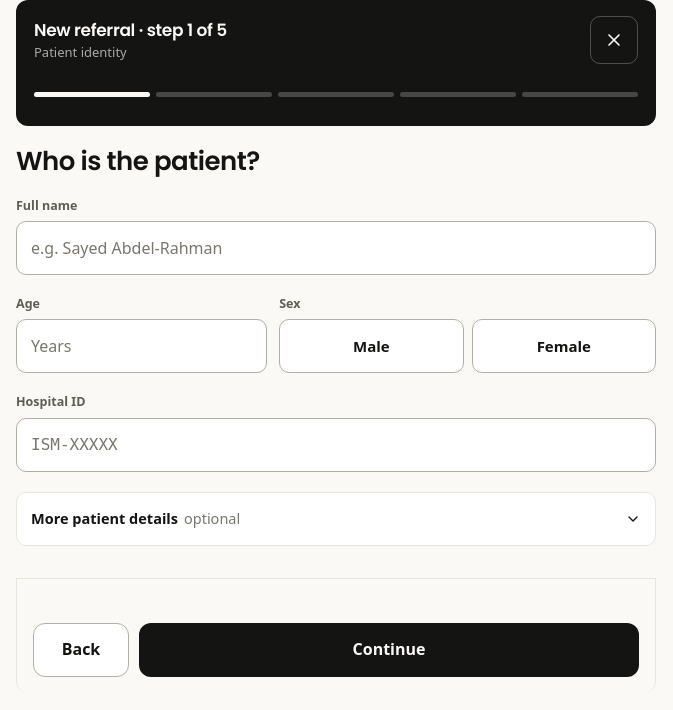
Test case: Milestone 2 - Unified Referral Intake Wizard › Continue-button validation gates › does not require vitals to continue: an empty vital is "not recorded", never a default
Type "ISM-1" into the field with id "hospitalId" at [336, 445], box x1=16 y1=418 x2=656 y2=472
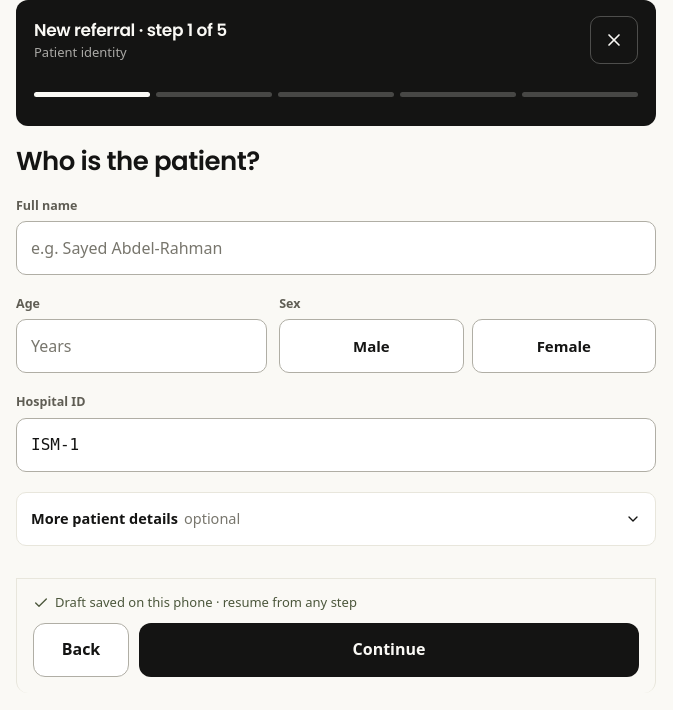
Type "Test Patient" into the field labelled "Full name" at [336, 248], box x1=16 y1=221 x2=656 y2=275
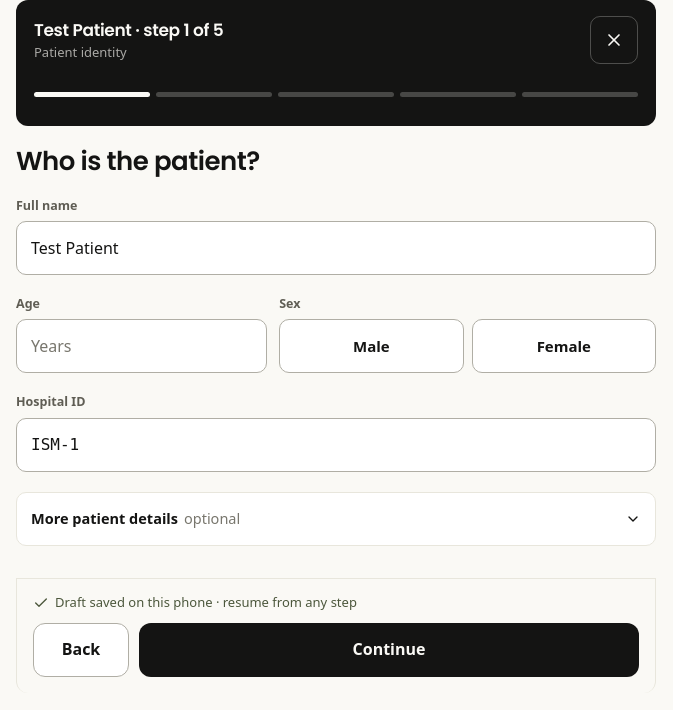
Type "40" into the number field labelled "Age" at [142, 346], box x1=16 y1=319 x2=267 y2=373
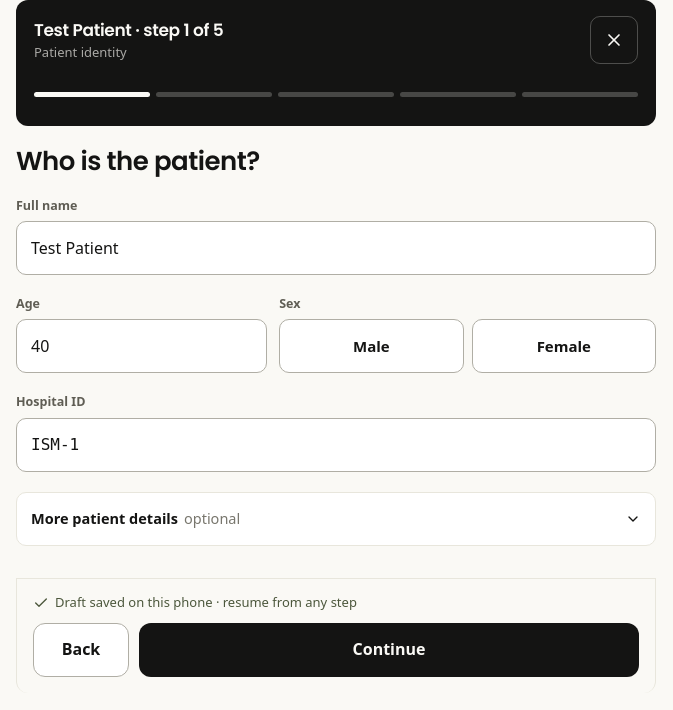
Click the radio button named "gender" at [371, 346], box x1=279 y1=319 x2=464 y2=373
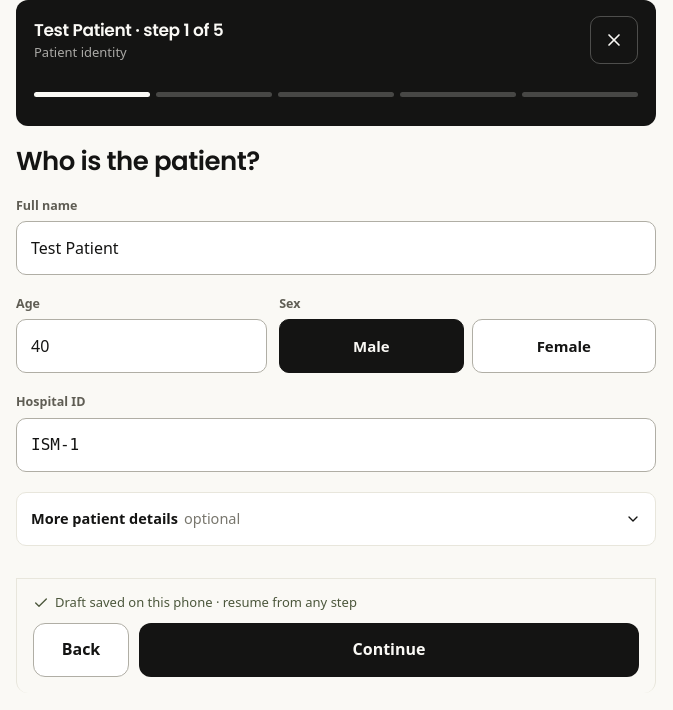
Click the button "Continue" at [389, 650], box x1=139 y1=623 x2=639 y2=677
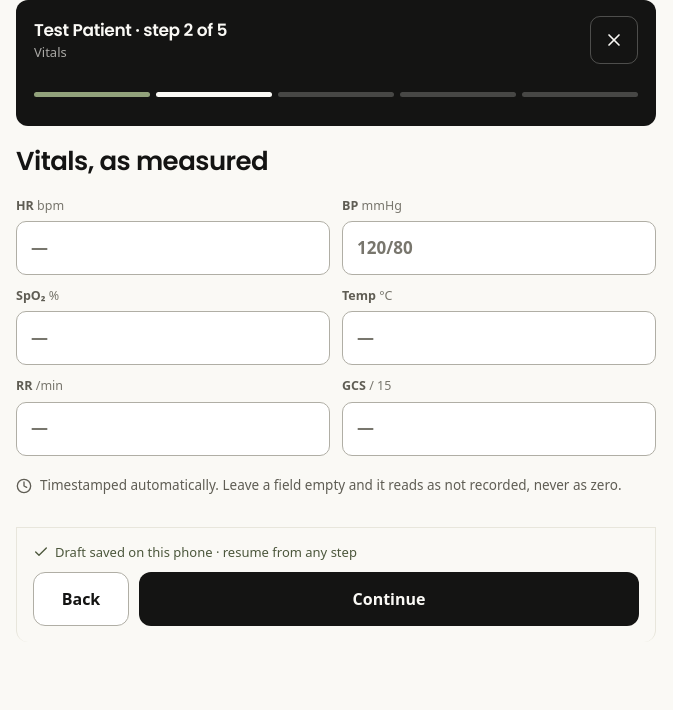
Result: the number field labelled "HR bpm" is empty at x1=16 y1=221 x2=330 y2=275
Result: the number field labelled "GCS / 15" is empty at x1=342 y1=402 x2=656 y2=456
Click the button "Continue" at [389, 599], box x1=139 y1=572 x2=639 y2=626
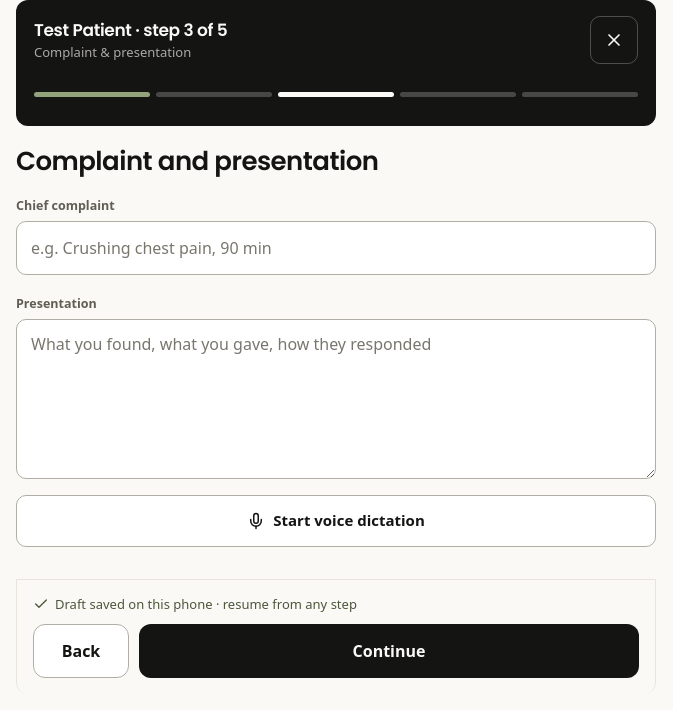
Result: the field with id "complaint" is shown at x1=16 y1=221 x2=656 y2=275
